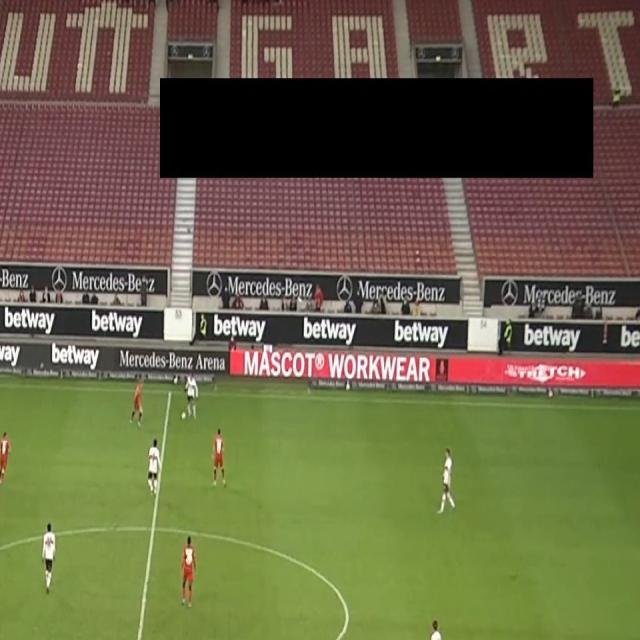ball: (181, 410, 187, 421)
